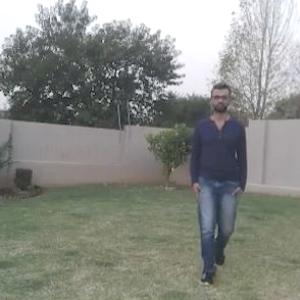follow: (190, 91, 245, 262)
